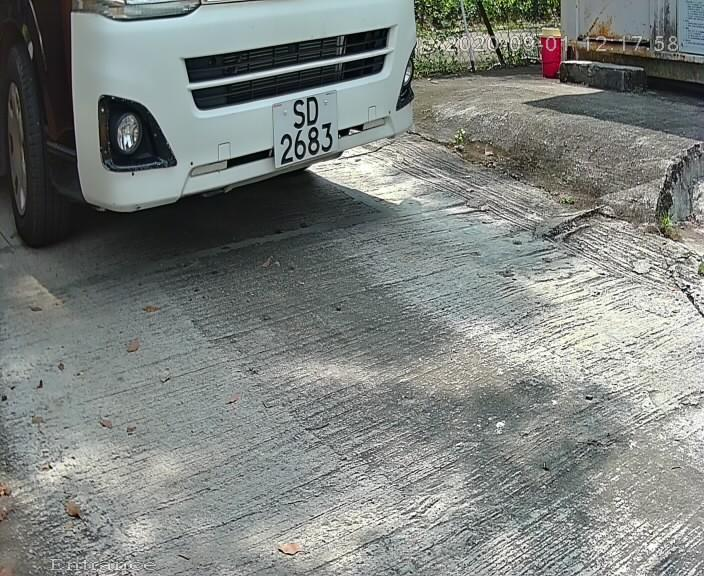License Plate: (255, 83, 356, 181)
